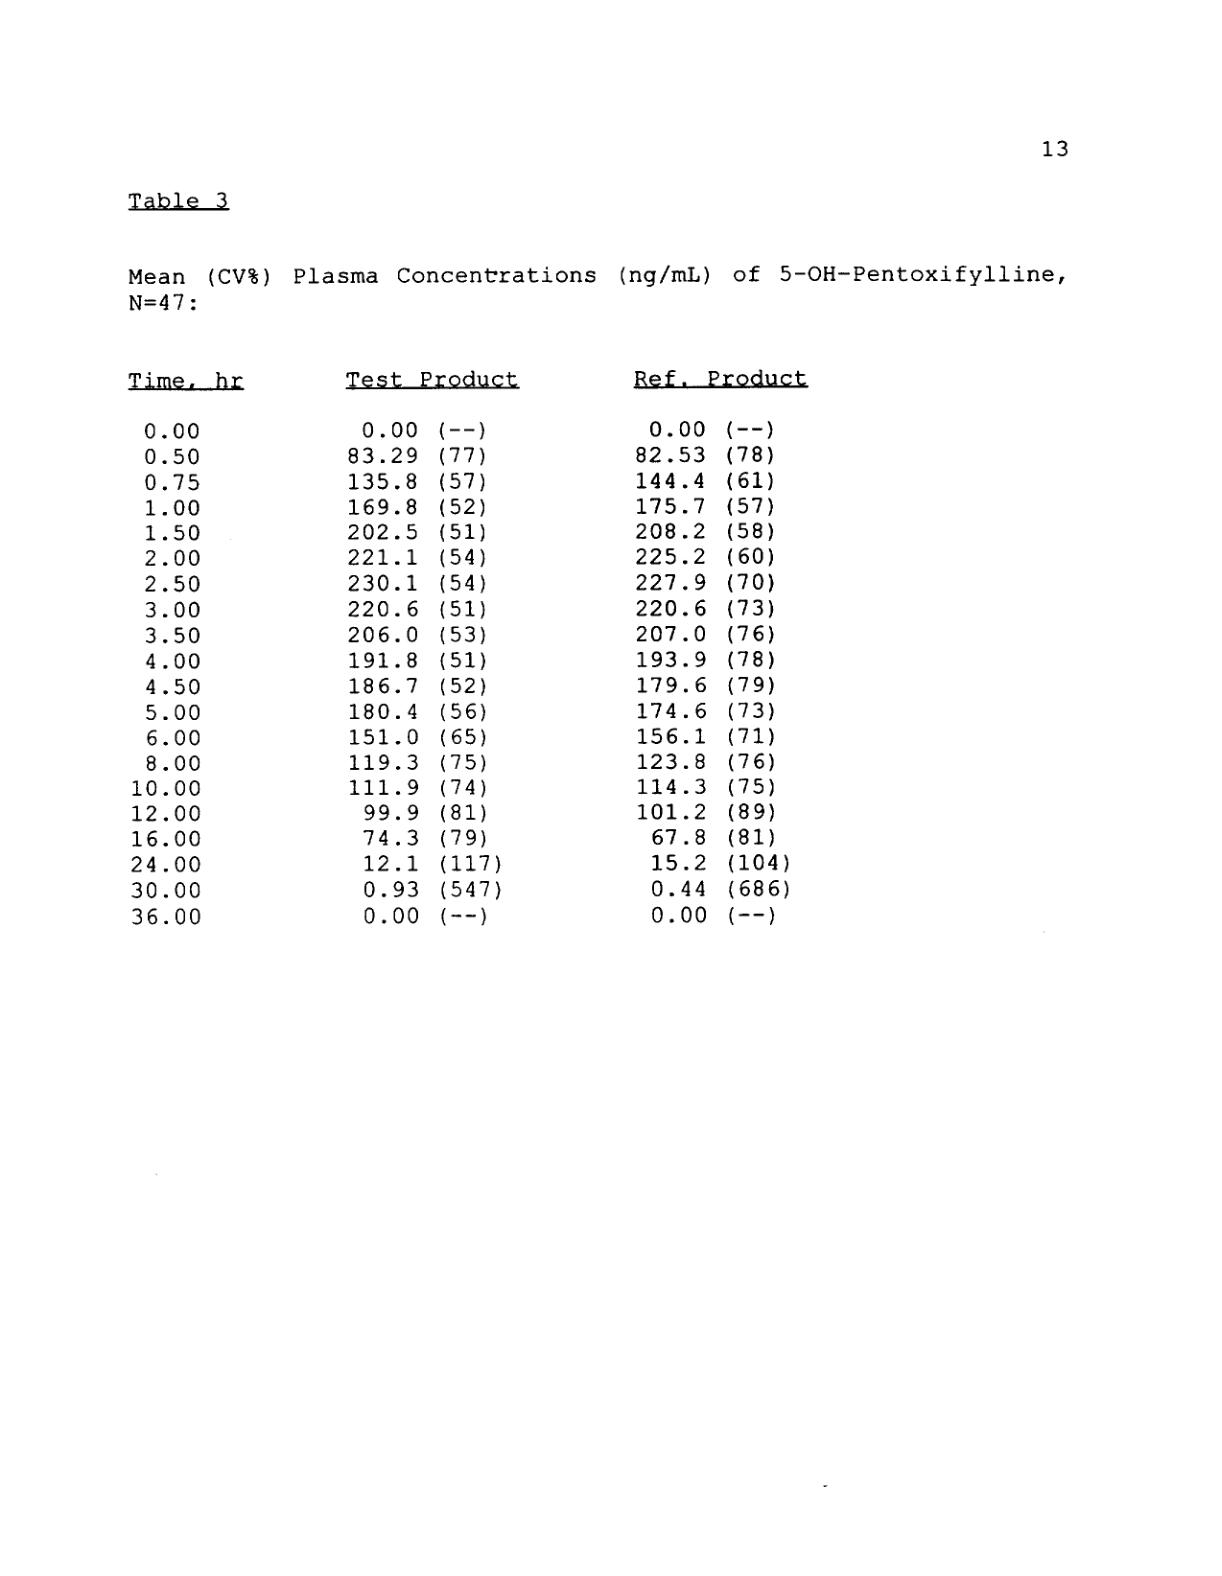nolines: (122, 366, 809, 927)
